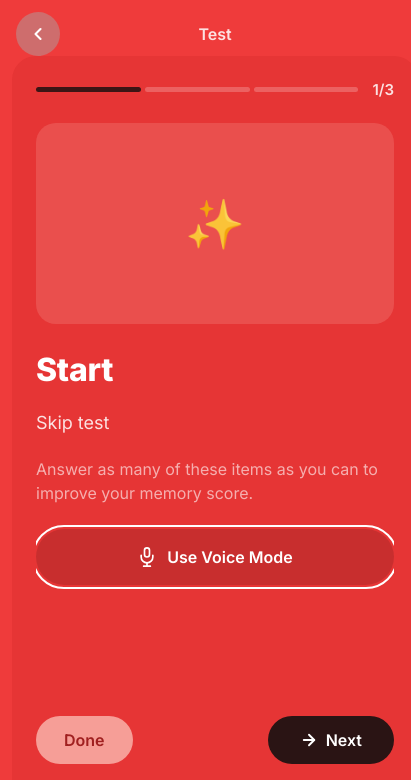
Scenario: FlowEngine › skip rules route to the correct target screen
The image size is (411, 780).
Expected: the heading "Start" is shown, [36,350,113,389]
Click the button "Next" at (331, 740), box [268,716,394,764]
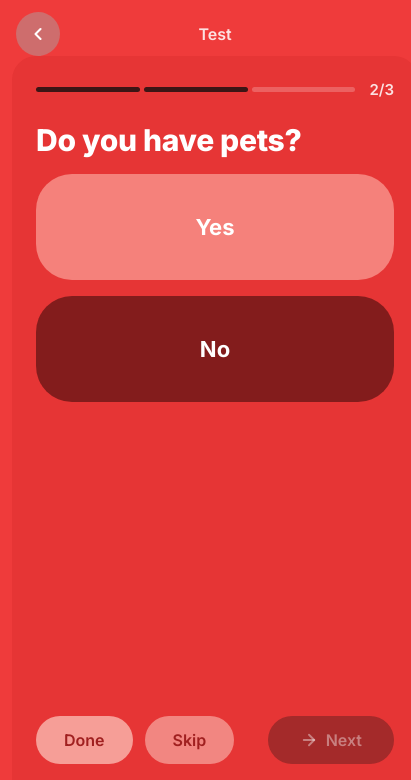
Select "no" which triggers skip rule → targetIndex 3
Click the button "No" at (215, 348), box [36,296,394,402]
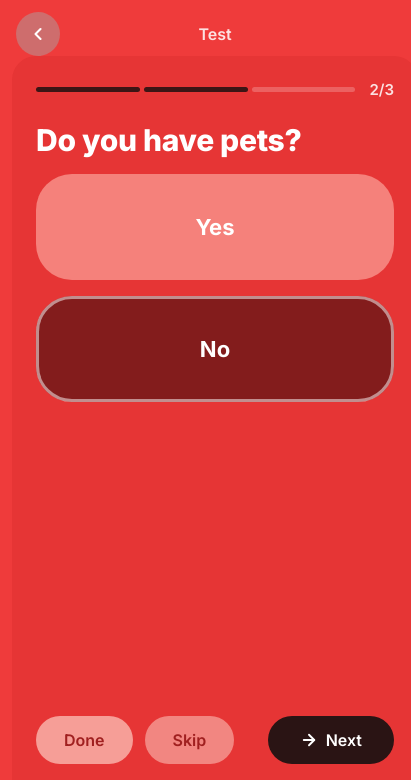
Click the button "Next" at (331, 740), box [268,716,394,764]
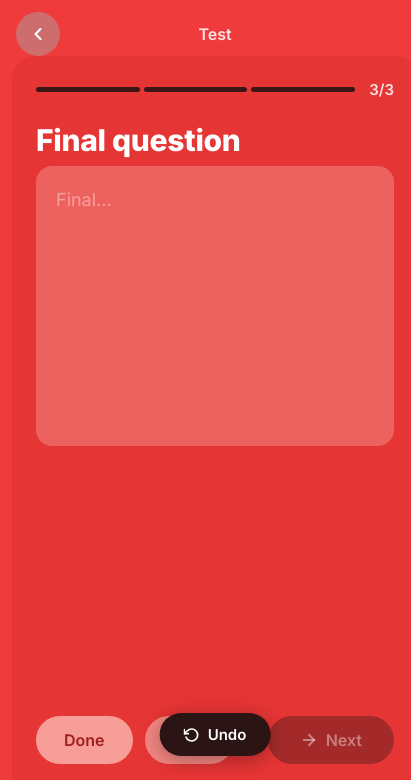
Expected: the heading "Final question" is shown, [36,123,241,158]
